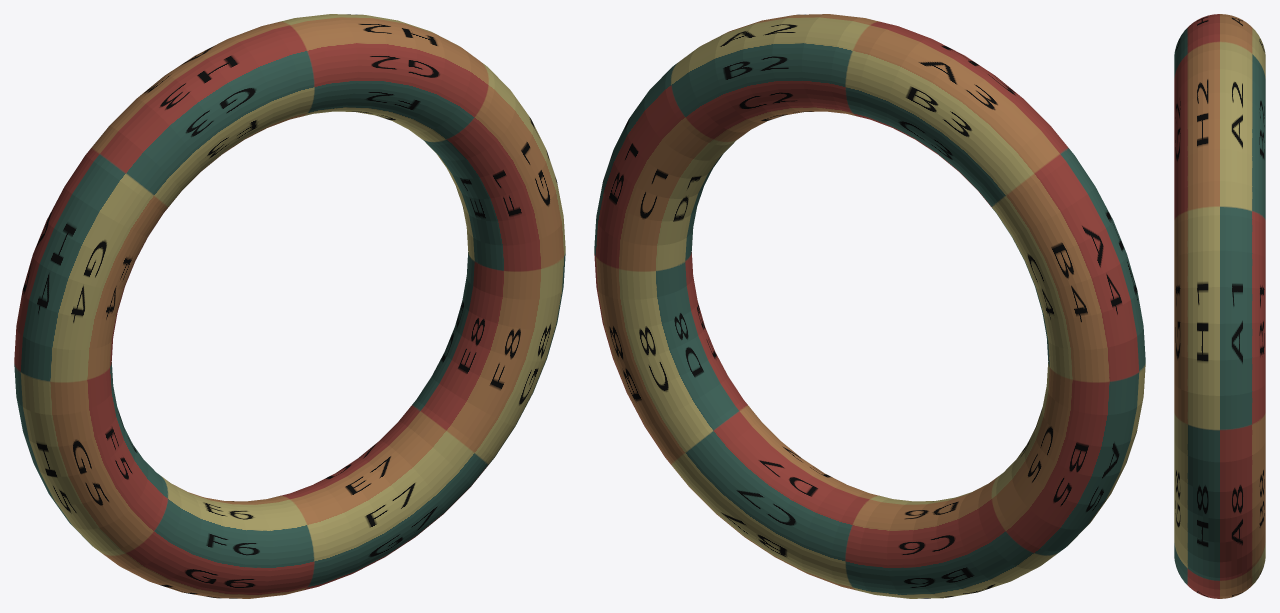
Rendered from texture_torus_R14_r6.glb.
The picture shows the model from 3 angles, left to right: view 1: azimuth 30°, elevation 25°; view 2: azimuth 150°, elevation 25°; view 3: azimuth 270°, elevation 25°; orthographic projection. The views are drawn at different scales.
Visible parts, largest first — view 1: world; view 2: world; view 3: world.
Boxes of the visible parts, x1=… form: world: x1=14, y1=14, x2=565, y2=598; world: x1=594, y1=14, x2=1145, y2=598; world: x1=1174, y1=14, x2=1265, y2=598.
Bounding box in the file's own units: 22.93 × 22.89 × 3.59.
Materials: 1 (1 with a texture image).
